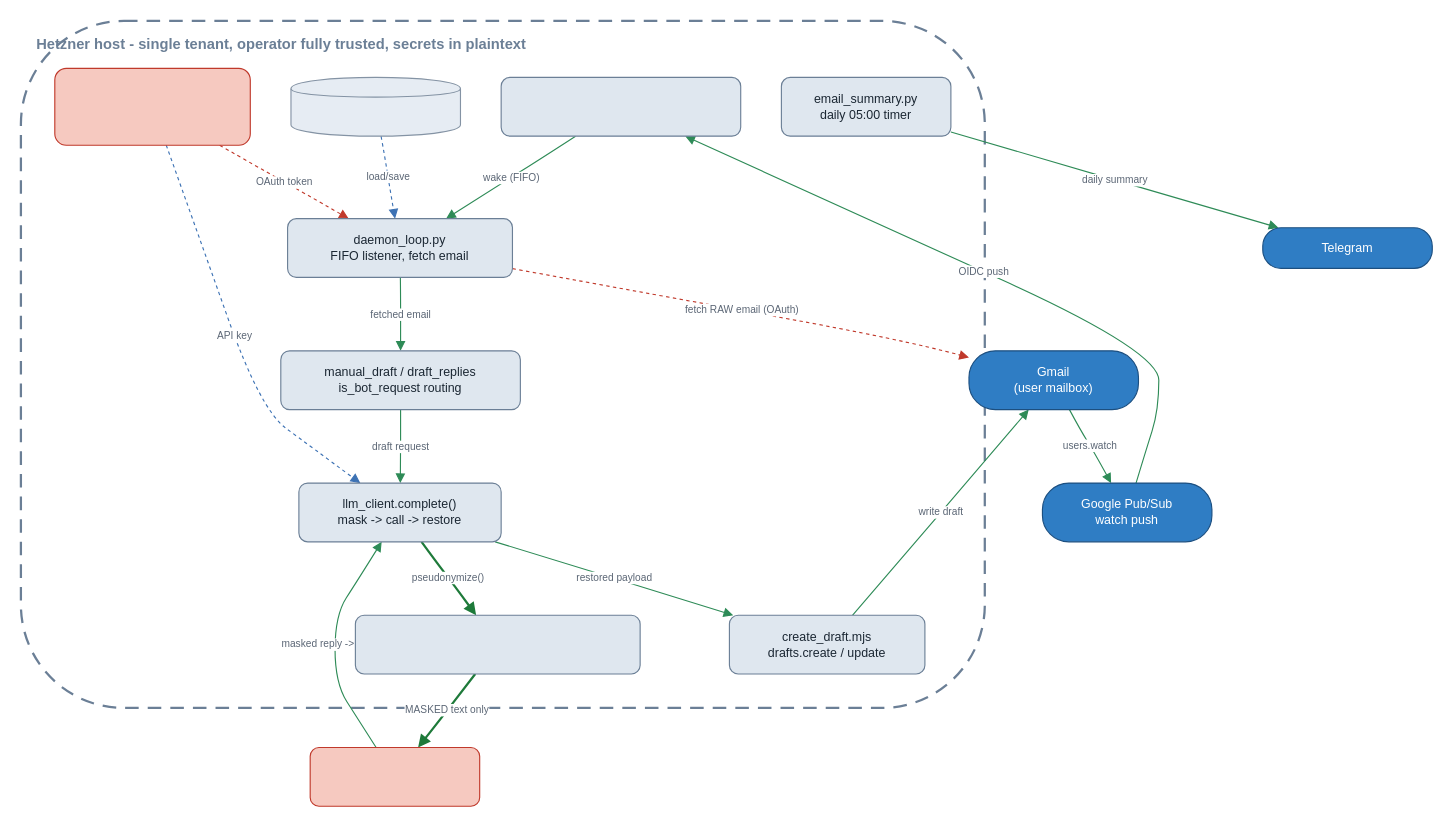
Some shapes in this 1452 by 826 pixel diagram are drawn without their labels. The shapes that lost their labels are listed below. From the top down, each one's box as (x1, y1, x2, y2) in pixels, then its label:
(54, 67, 250, 145): .env + .gmail-mcp/ OAuth token + API keys (PLAINTEXT on disk)
(290, 76, 460, 136): state.json runtime state
(500, 76, 741, 136): gmail_hook_server.py verify OIDC JWT, wake daemon
(354, 614, 640, 674): pseudonymizer.py Presidio PII masking (single user)
(309, 746, 480, 806): DeepSeek LLM (UNTRUSTED)
